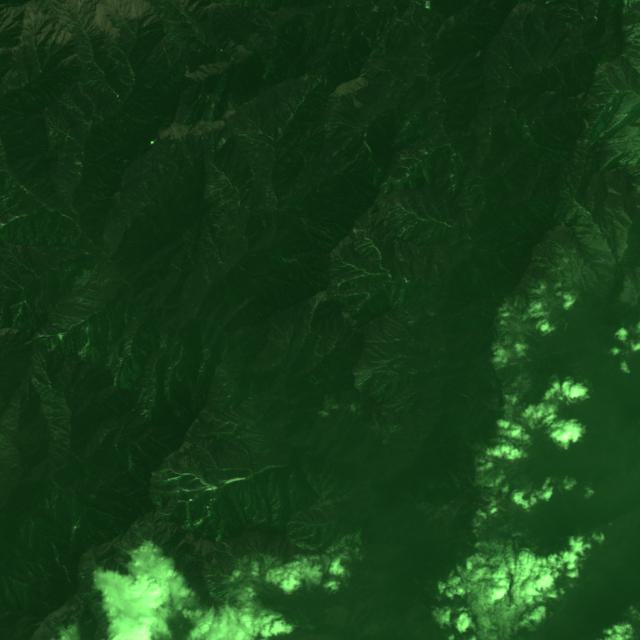landslides: (234, 128, 275, 150), (482, 495, 515, 521), (182, 457, 206, 485), (385, 315, 410, 338), (343, 145, 367, 168), (20, 91, 42, 112), (32, 82, 51, 104), (312, 292, 325, 321), (193, 511, 214, 528), (79, 323, 90, 354), (419, 195, 433, 219), (454, 502, 476, 517), (152, 468, 193, 476), (58, 101, 83, 114), (188, 487, 211, 501), (127, 113, 152, 125), (504, 35, 525, 49), (324, 123, 341, 139), (200, 410, 224, 421), (463, 32, 483, 45), (131, 353, 141, 376), (328, 62, 339, 82), (121, 362, 129, 388), (126, 362, 136, 382), (387, 323, 402, 336), (15, 300, 25, 319), (163, 47, 171, 70), (610, 62, 624, 75), (245, 484, 251, 514), (383, 326, 395, 341), (209, 184, 229, 193), (619, 210, 632, 223), (132, 529, 146, 541), (257, 129, 273, 139), (353, 46, 363, 62), (98, 178, 111, 190), (334, 102, 349, 112), (452, 236, 467, 246), (219, 72, 226, 93), (527, 512, 538, 525), (151, 476, 179, 481), (360, 245, 374, 255), (67, 96, 78, 108), (367, 349, 380, 359), (25, 92, 38, 102), (61, 72, 79, 79), (150, 81, 161, 92), (356, 241, 371, 249), (406, 196, 413, 212), (521, 457, 532, 467), (203, 274, 213, 285), (425, 307, 437, 316), (76, 307, 94, 313), (372, 332, 384, 341), (7, 212, 20, 220), (345, 93, 353, 106), (120, 79, 133, 87), (608, 188, 621, 196), (36, 95, 46, 105), (167, 8, 177, 18)
